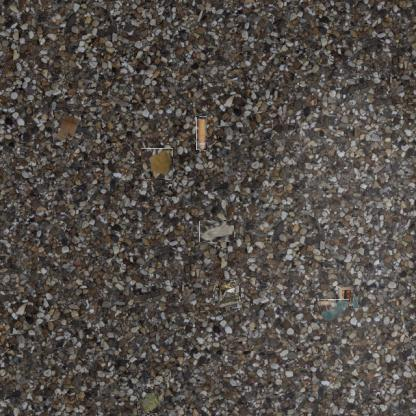dirty: (53, 110, 81, 142), (199, 220, 234, 242), (214, 280, 240, 306), (137, 388, 163, 414), (337, 285, 359, 307), (196, 116, 207, 150)
liquid: (142, 148, 173, 180), (321, 299, 349, 322)
